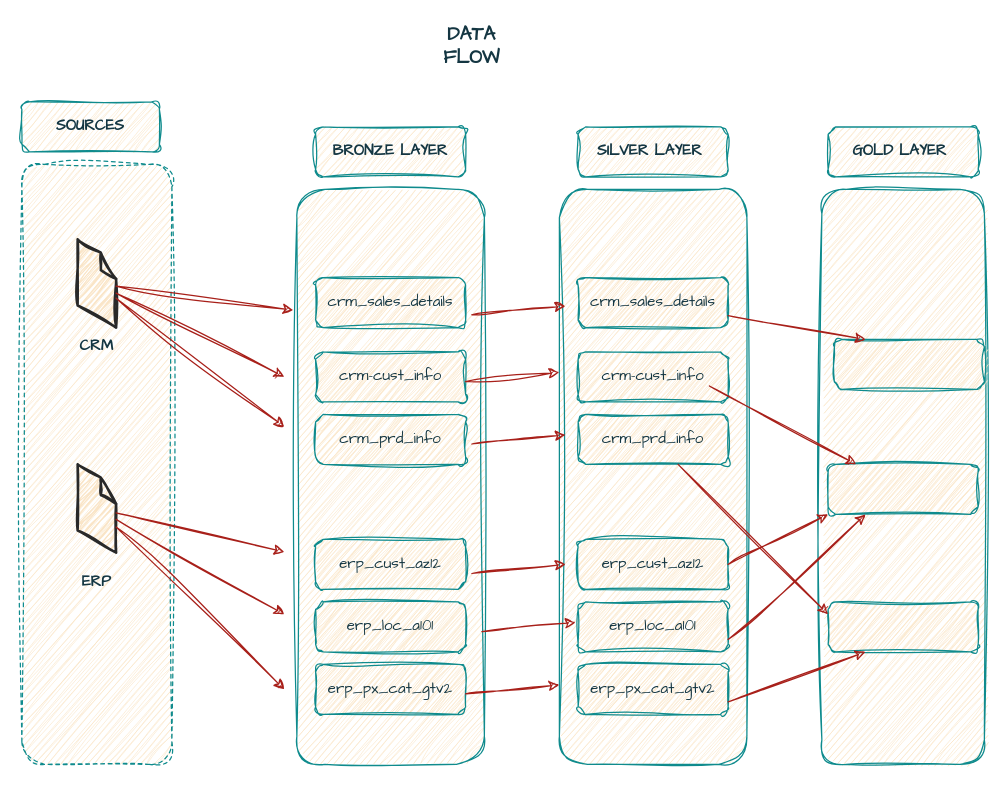
Some shapes in this 1006 by 786 pixel diagram are drawn without their labels. Here are the shapes that lost their labels. From the top down, the centre of each, then its label:
At [908,363]: "fact_sales".
At [902,488]: "drm_cuatomers".
At [902,626]: "dim_products".
